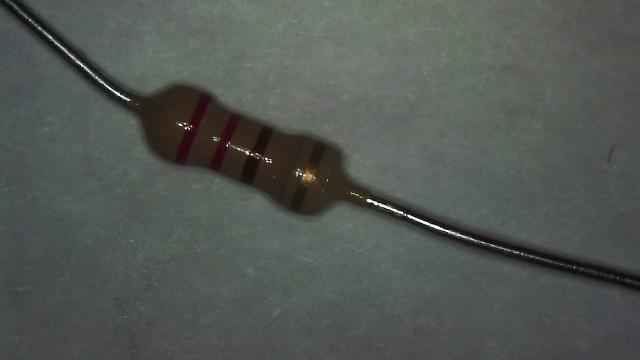brown: (240, 127, 272, 184)
gold: (292, 142, 324, 209)
red: (175, 94, 210, 164), (210, 114, 239, 170)
resistor: (101, 57, 391, 242)
